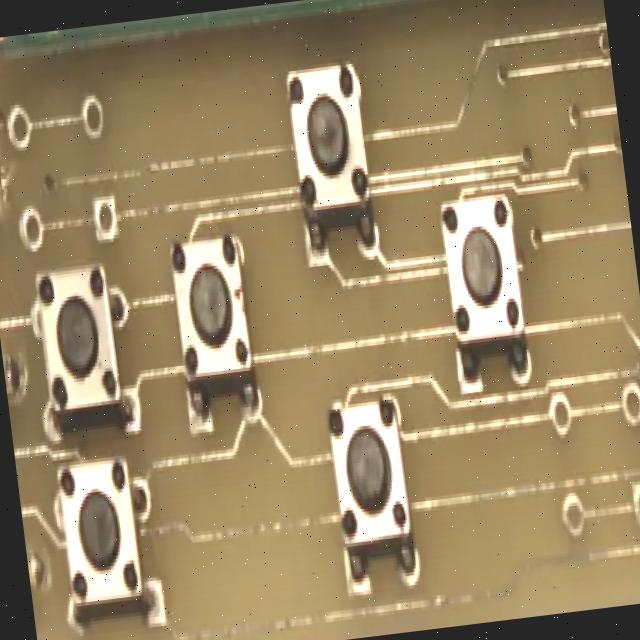switch: (426, 180, 543, 390), (47, 450, 170, 640), (319, 388, 425, 591), (162, 225, 270, 420), (280, 56, 380, 252), (26, 260, 127, 426)
